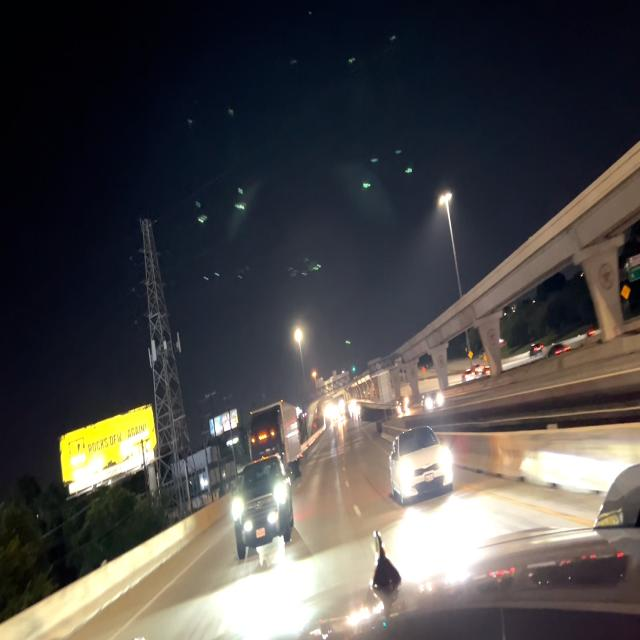back-of-sign: (315, 370, 354, 398), (366, 352, 385, 381)
